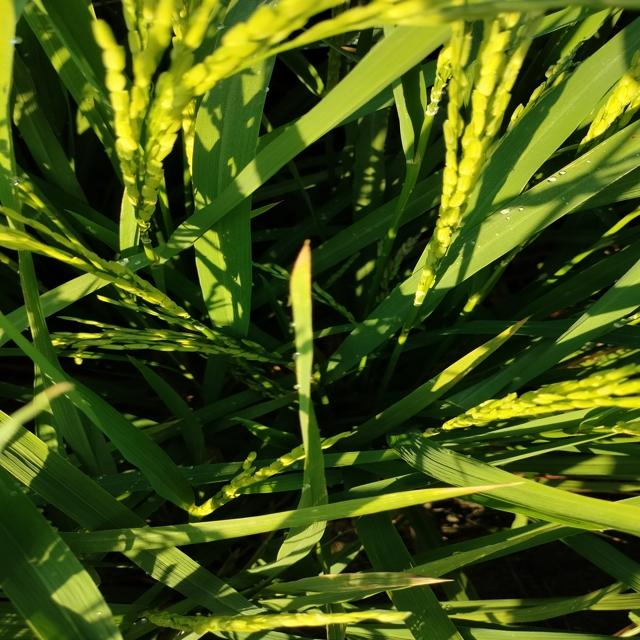healthy: (339, 571, 454, 593), (432, 478, 527, 500), (287, 234, 320, 287)
